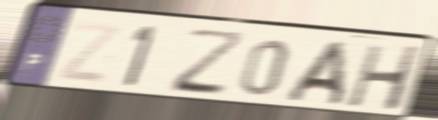0: (236, 37, 295, 97)
1: (122, 24, 159, 90)
A: (280, 38, 347, 108)
H: (344, 42, 425, 114)
Z: (169, 27, 248, 98), (53, 19, 126, 87)
